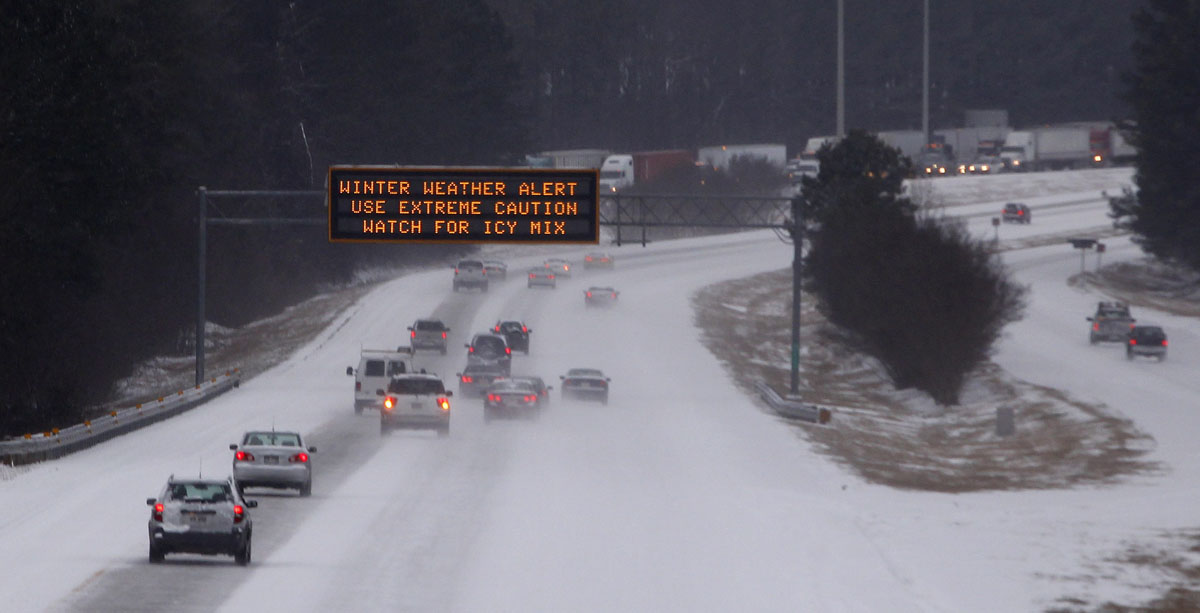car: (145, 473, 256, 568), (229, 429, 320, 499), (375, 371, 456, 440), (478, 379, 548, 426), (558, 363, 614, 407)
